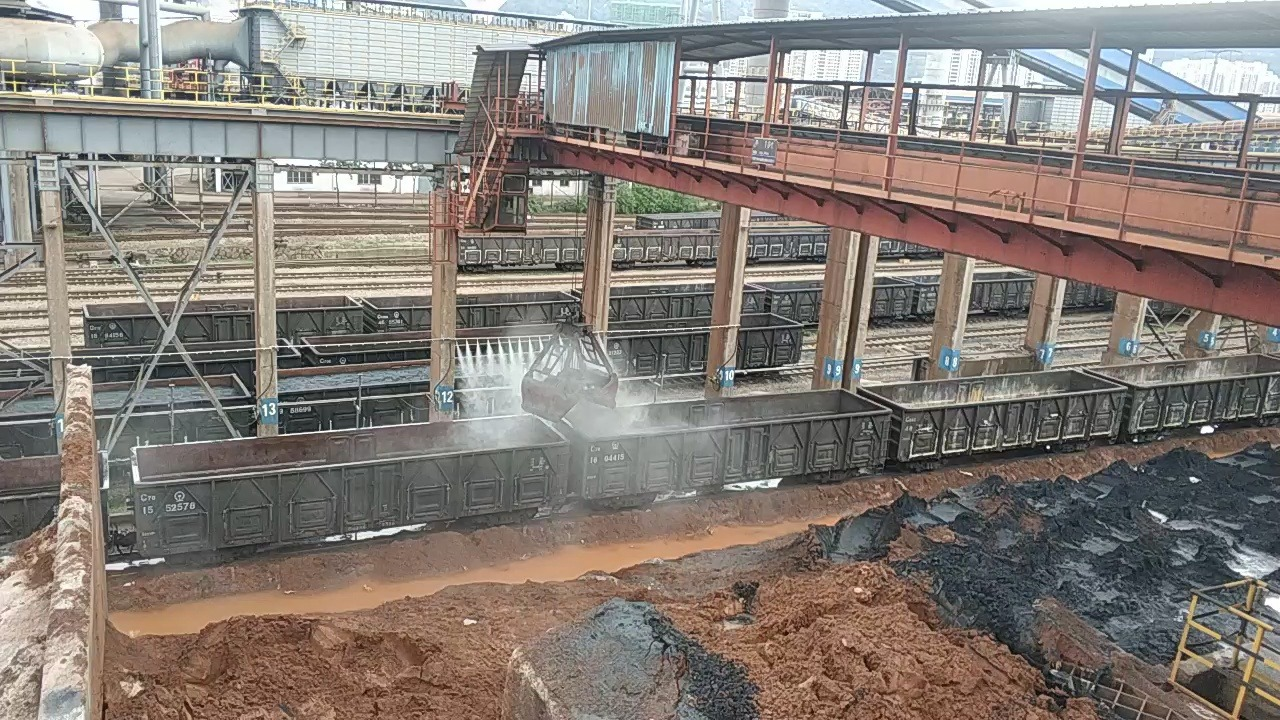dust: (442, 335, 724, 517)
grab: (515, 309, 621, 422)
